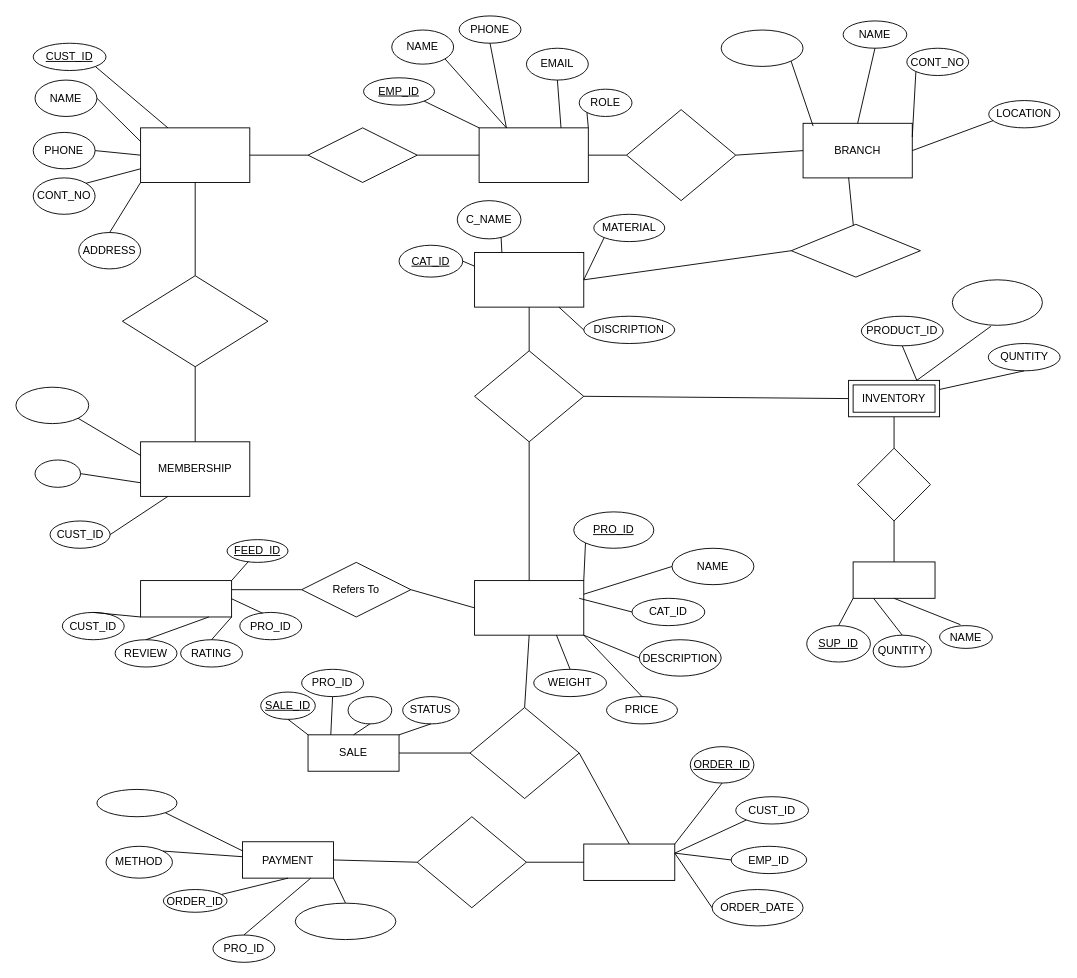
This 1077x978 diagram has some shape labels left out. The shapes that lost their labels are listed below. From the top down, each one's centre as x and y in pixels, then its label:
the point at 761,47: BRANCH_ID
the point at 195,154: CUSTOMER
the point at 533,154: EMPLOYEE
the point at 681,155: Work At
the point at 855,250: Offers
the point at 529,279: CATEGORY
the point at 194,321: has
the point at 996,302: LAST_UPDAT DATE
the point at 52,405: MEM_ID
the point at 529,396: Contains
the point at 57,473: TYPE
the point at 893,484: Supplied by
the point at 186,598: FEEDBACK
the point at 893,579: SUPPLIER
the point at 529,607: PRODUCT
the point at 369,710: OFFER
the point at 524,753: Sold in
the point at 136,803: PAYMENT_ID
the point at 471,862: Paid By
the point at 629,861: ORDER
the point at 345,921: PYMENT_DATE
